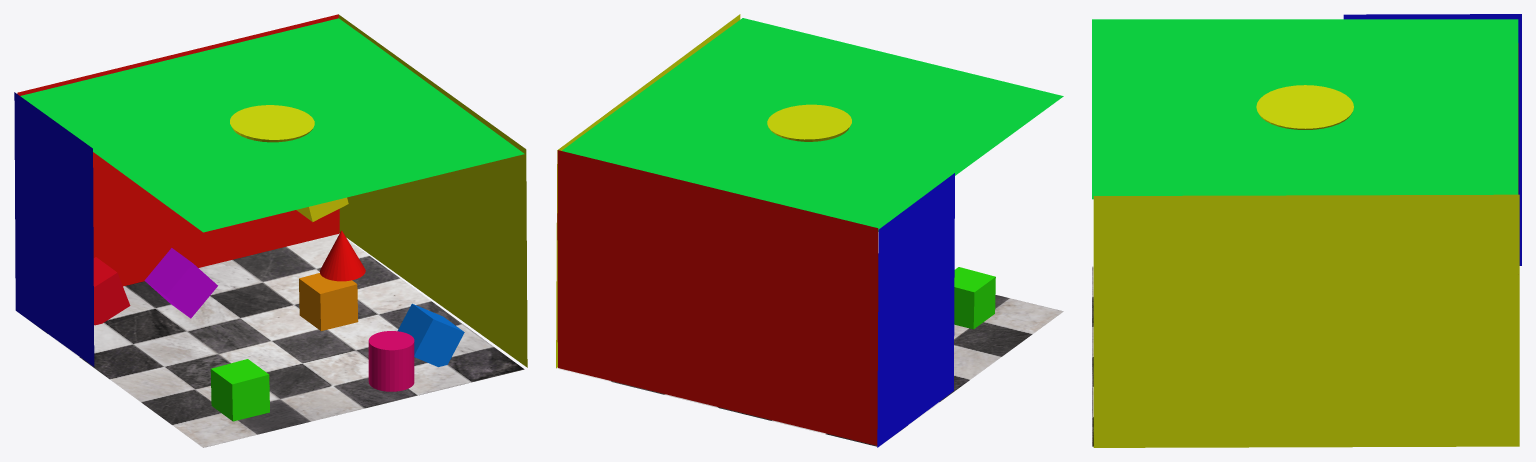
File: boss.glb
3 views of the same model, side by side, from view 1: azimuth 30°, elevation 25°; view 2: azimuth 150°, elevation 25°; view 3: azimuth 270°, elevation 25° (orthographic). The views are drawn at different scales.
Visible parts, largest first — view 1: Plane.002, Plane, Plane.003, Plane.004, Plane.001, Cube.002, Cube.004, Cube.005, Cylinder.001, Cone, Cube.001, Cube (+2 smaller); view 2: Plane.001, Plane.002, Plane.004, Plane, Cone, Cube.002, Plane.003; view 3: Plane.003, Plane.002, Cone, Plane.004.
Part boxes in pixels (x1,y1,x2,y2): Plane.002: [20, 18, 524, 232]; Plane: [27, 233, 524, 447]; Plane.003: [338, 14, 527, 367]; Plane.004: [14, 92, 94, 366]; Plane.001: [17, 14, 339, 286]; Cube.002: [210, 359, 269, 421]; Cube.004: [299, 273, 358, 330]; Cube.005: [144, 248, 217, 318]; Cylinder.001: [368, 331, 414, 391]; Cone: [230, 105, 314, 142]; Cube.001: [397, 303, 464, 366]; Cube: [93, 257, 130, 325]; Plane.001: [557, 150, 878, 445]; Plane.002: [562, 18, 1063, 231]; Plane.004: [877, 173, 954, 447]; Plane: [557, 294, 1063, 446]; Cone: [767, 104, 851, 141]; Cube.002: [954, 267, 995, 329]; Plane.003: [556, 14, 740, 368]; Plane.003: [1093, 194, 1519, 447]; Plane.002: [1092, 19, 1518, 199]; Cone: [1256, 85, 1353, 129]; Plane.004: [1343, 14, 1521, 265].
Bounding box in the file's own units: 16.45 × 10.77 × 16.34.
14 materials, 1 textured.
